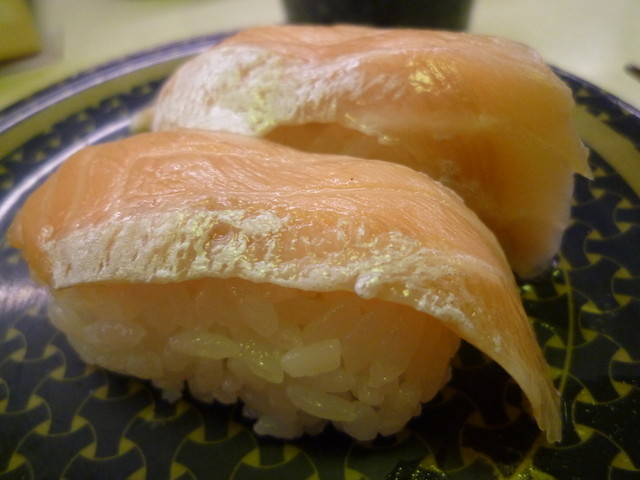salmon: (6, 126, 566, 450)
